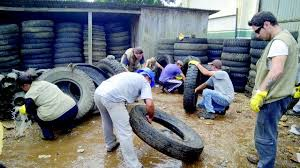tire: (131, 102, 205, 162), (31, 65, 97, 126), (59, 64, 109, 116), (182, 58, 201, 114), (172, 54, 211, 63), (219, 51, 253, 61), (219, 58, 252, 68), (172, 36, 209, 44), (172, 42, 209, 50), (222, 37, 251, 47), (218, 65, 252, 73), (20, 19, 53, 27), (216, 71, 250, 78), (171, 49, 209, 55), (18, 47, 56, 53), (222, 44, 250, 52), (20, 25, 56, 31), (21, 31, 56, 37), (21, 41, 52, 47), (1, 22, 17, 32), (20, 37, 55, 41)
